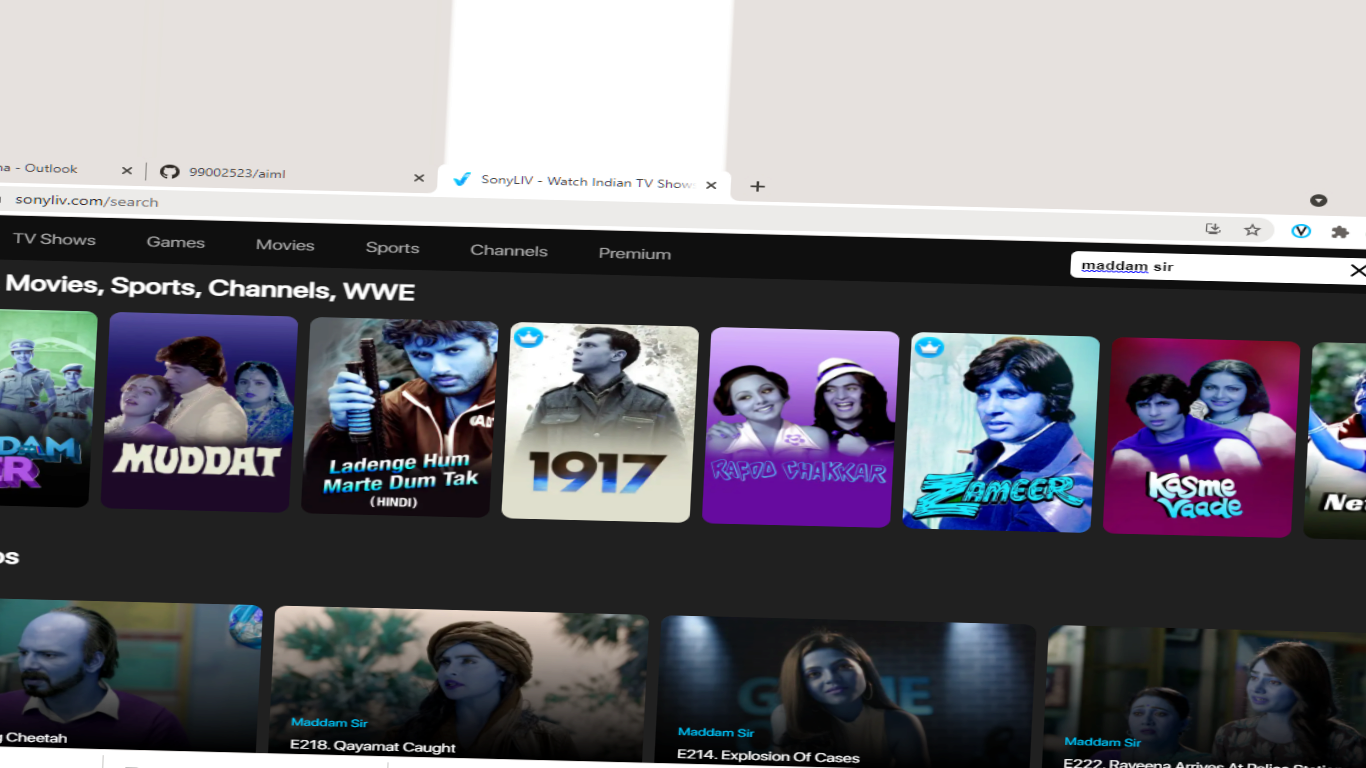resultsfound: (1, 269, 442, 319)
searchtextbox: (1045, 237, 1366, 288)
